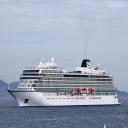cruises: (6, 55, 123, 109)
